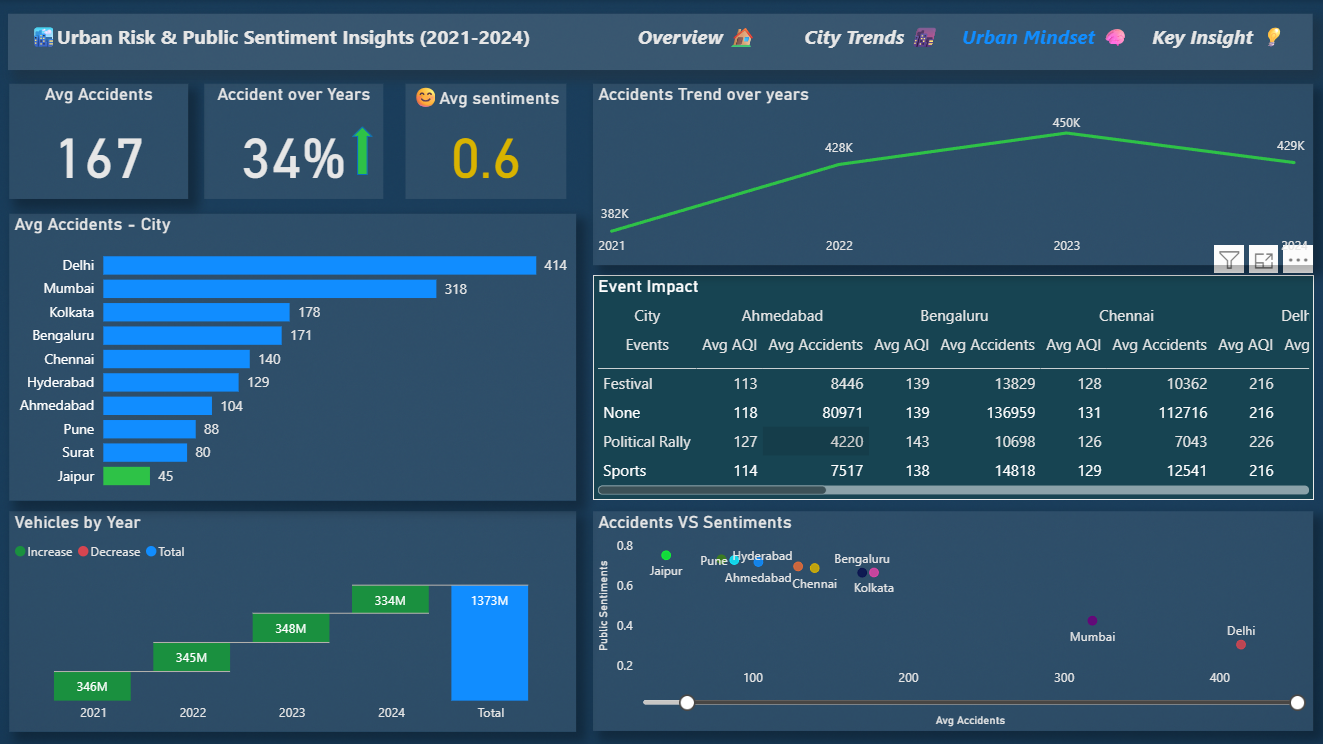

The dashboard page shown, as its layout file describes it:
{"tool":"powerbi","page":{"name":"Urban Mindset 🧠","canvas":[1280,720],"ordinal":2},"visuals":[{"type":"shape","box":[9.9,13.6,1259.3,54.3],"z":0},{"type":"scatterChart","title":"Accidents VS Sentiments","fields":{"Category":["Data.City"],"X":["Avg(Data.Accident_reported)"],"Y":["Avg(Data.Public_Sentiment)"]},"box":[574.3,493.4,694.9,212.3],"z":1000},{"type":"card","title":"Avg Accidents","fields":{"Values":["Avg(Data.Accident_reported)"]},"box":[11.1,80.2,172.8,111.1],"z":2000},{"type":"card","title":"Accident over Years","fields":{"Values":["Data.YOY Accident Change"]},"box":[198.8,80.2,172.8,111.1],"z":3000},{"type":"card","title":"😊Avg sentiments","fields":{"Values":["Avg(Data.Public_Sentiment)"]},"box":[393.8,80.2,155.6,111.1],"z":4000},{"type":"pivotTable","title":"Event Impact","fields":{"Rows":["Data.Event_Ongoing"],"Columns":["Data.City"],"Values":["Data.Avg AQI","Sum(Data.Accidents)"]},"box":[574.3,265.4,696.1,217.2],"z":5000},{"type":"lineChart","title":"Accidents Trend over years","fields":{"Category":["Date Table.Year"],"Y":["Sum(Data.Accidents)"]},"box":[574.3,80.8,694.9,174.9],"z":6000},{"type":"waterfallChart","title":" Vehicles by Year","fields":{"Y":["Sum(Data.Vehicle_count)"],"Category":["Date Table.Year"]},"box":[11,493,547,213],"z":7000},{"type":"pageNavigator","box":[589.9,13.3,674.4,44.6],"z":8000},{"type":"textbox","box":[11.1,0,546.9,97.5],"z":9000},{"type":"clusteredBarChart","title":"Avg Accidents - City","fields":{"Y":["Avg(Data.Accidents)"],"Category":["Data.City"]},"box":[11.1,206.2,546.9,276.5],"z":10000},{"type":"shape","box":[341.4,121.9,20.5,47.1],"z":11000}]}

Visuals, with their boxes in screenshot pixels (x1, y1, x2, y2), scaled from the page's 1280x720 canvas onto the 1323x744 screenshot:
shape: (10, 14, 1312, 70)
"Accidents VS Sentiments" scatterChart: (594, 510, 1312, 729)
"Avg Accidents" card: (11, 83, 190, 198)
"Accident over Years" card: (205, 83, 384, 198)
"😊Avg sentiments" card: (407, 83, 568, 198)
"Event Impact" pivotTable: (594, 274, 1313, 499)
"Accidents Trend over years" lineChart: (594, 83, 1312, 264)
" Vehicles by Year" waterfallChart: (11, 509, 577, 730)
pageNavigator: (610, 14, 1307, 60)
textbox: (11, 0, 577, 101)
"Avg Accidents - City" clusteredBarChart: (11, 213, 577, 499)
shape: (353, 126, 374, 175)
